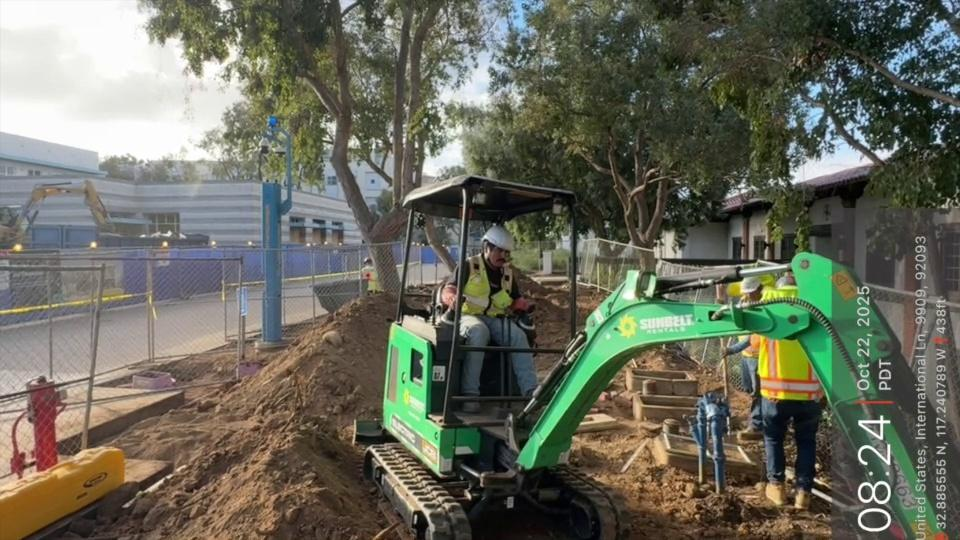Exacavator: (352, 173, 954, 538)
